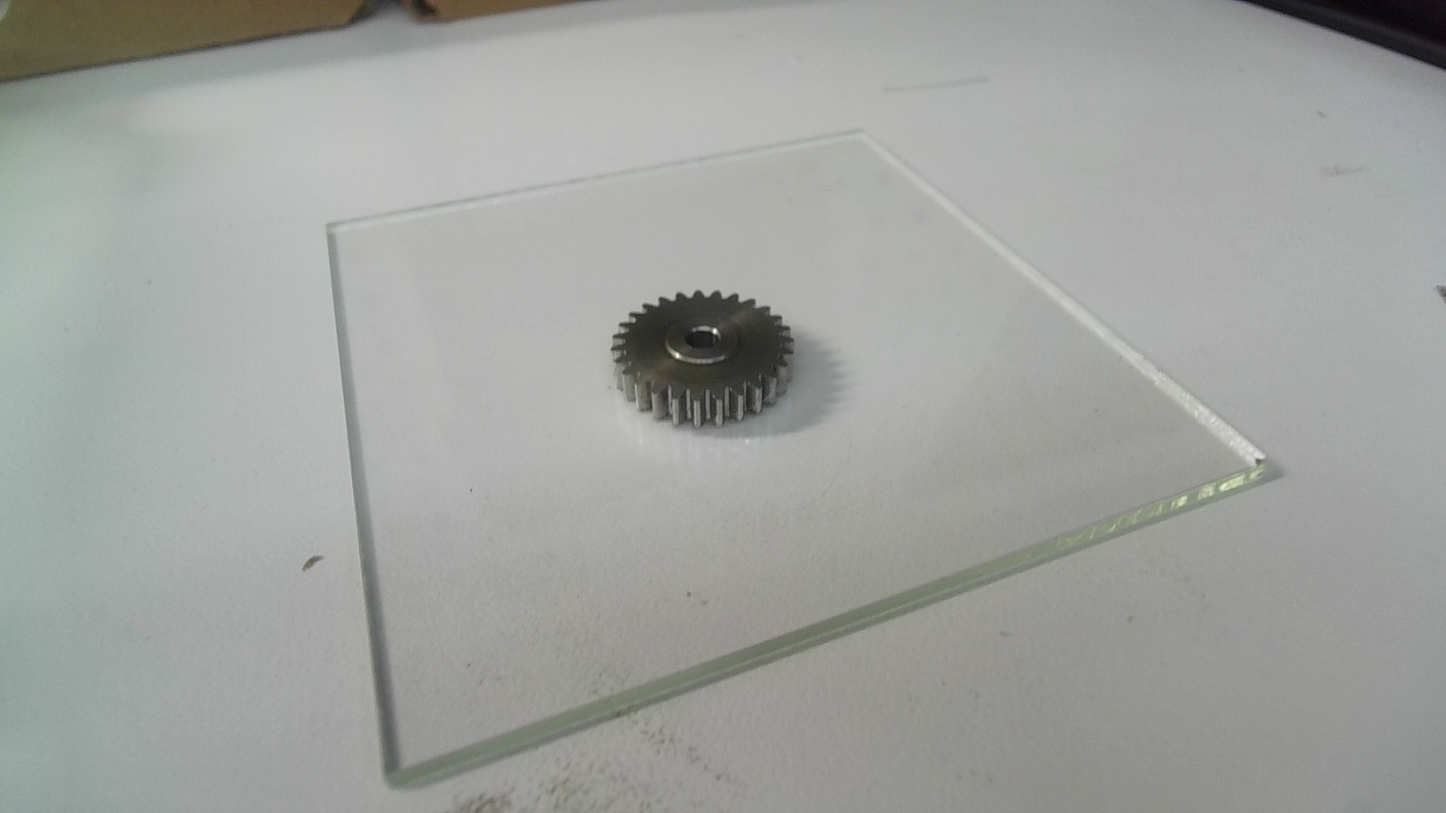gear: (608, 286, 800, 430)
